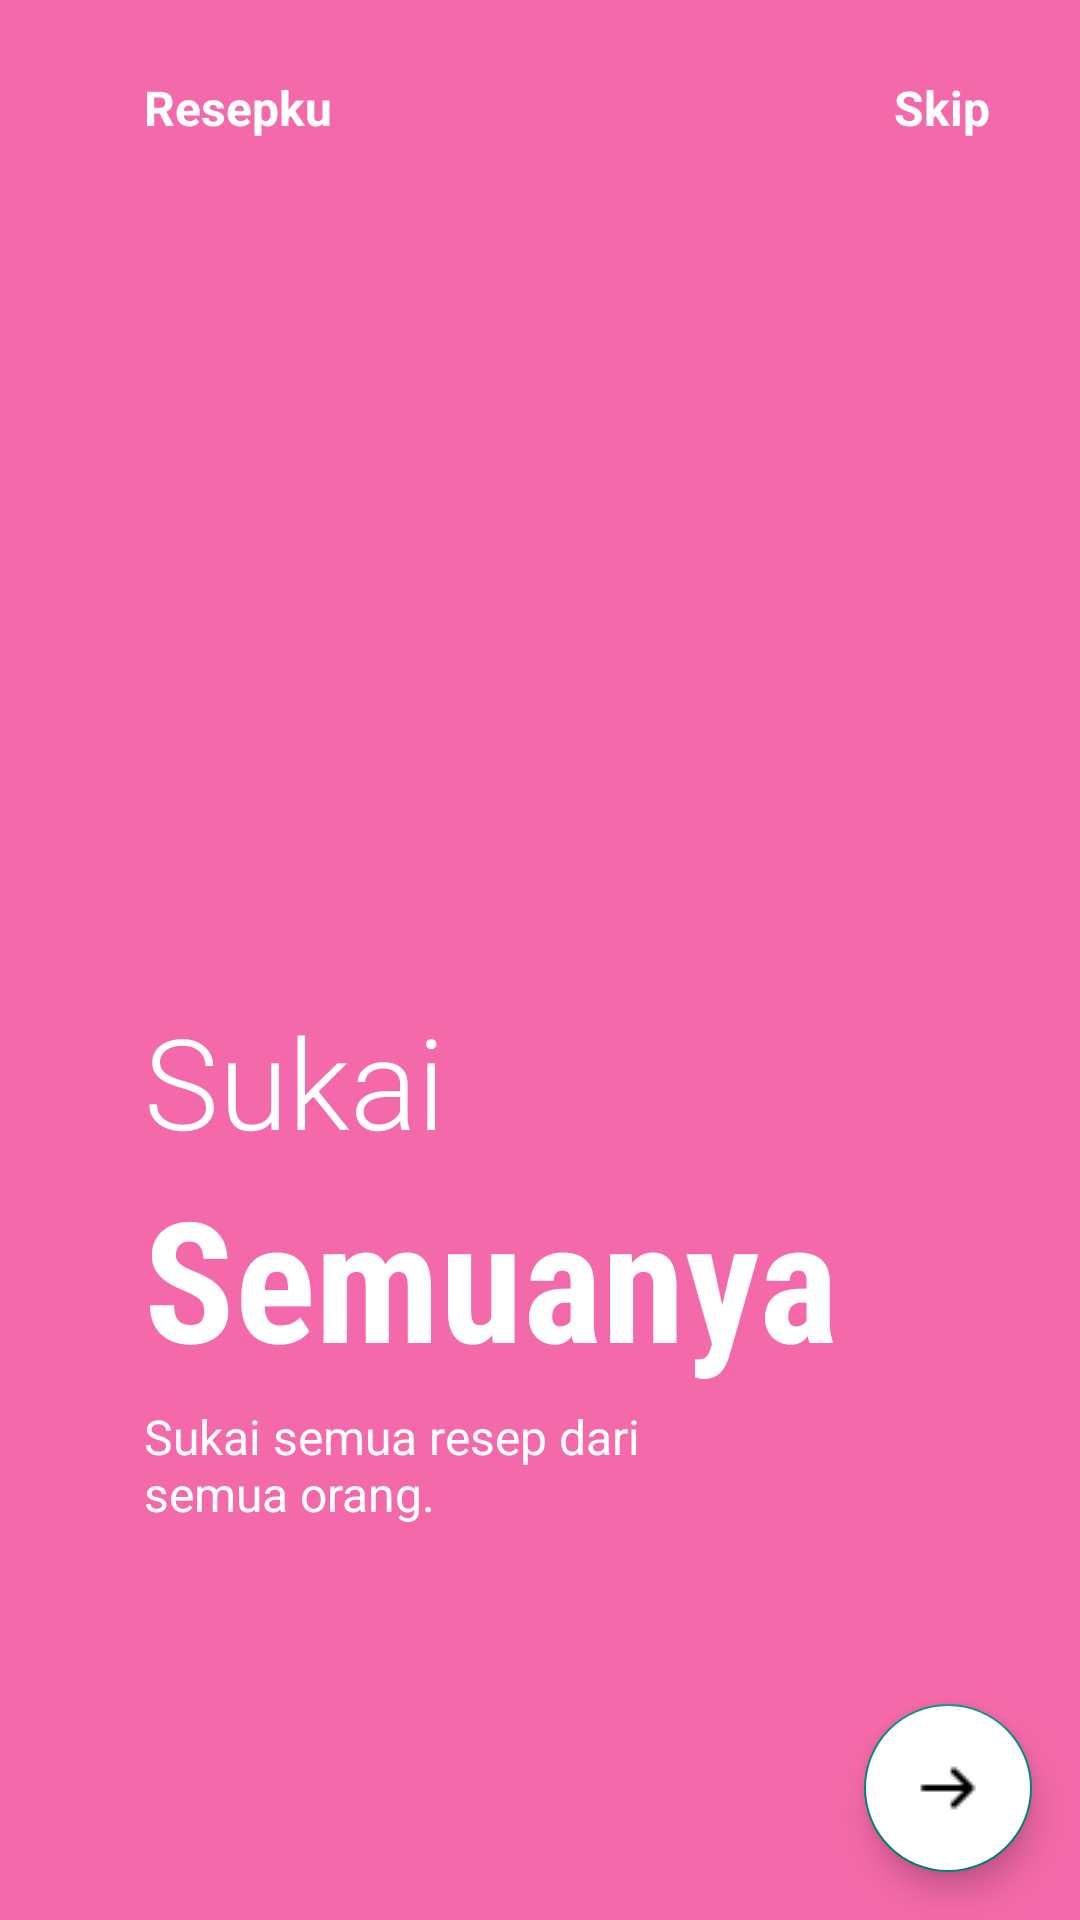

Named icons in this screenshot (1080 × 1920) and their bounding boxes, (x1, y1, x2, y2):
next: (864, 1704, 1032, 1872)
